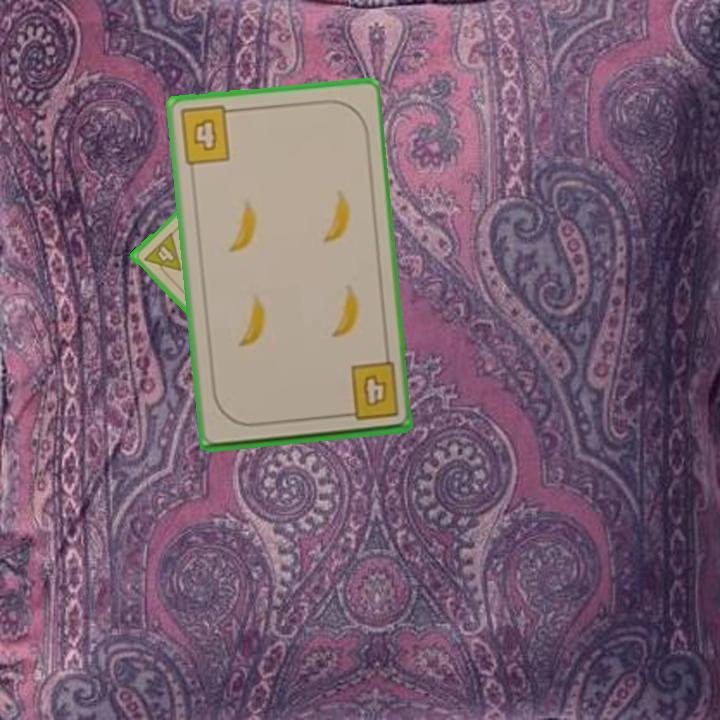4b: (175, 102, 240, 167), (337, 359, 402, 424)
4p: (139, 230, 184, 282)
